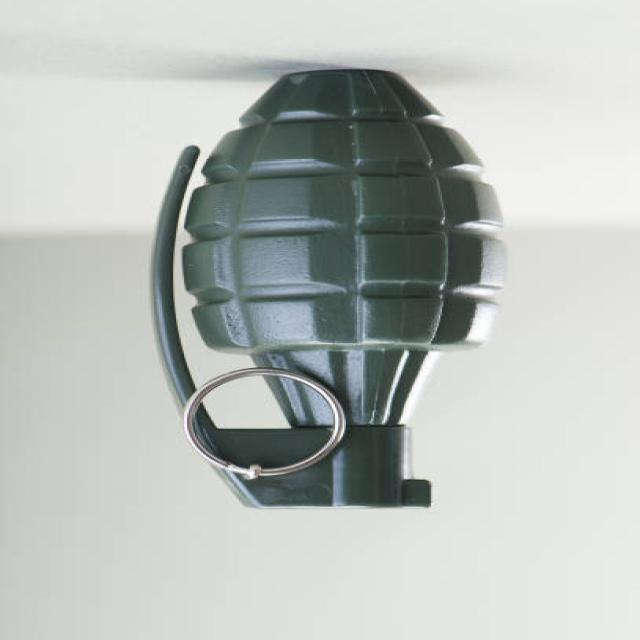grenade: (143, 64, 513, 525)
